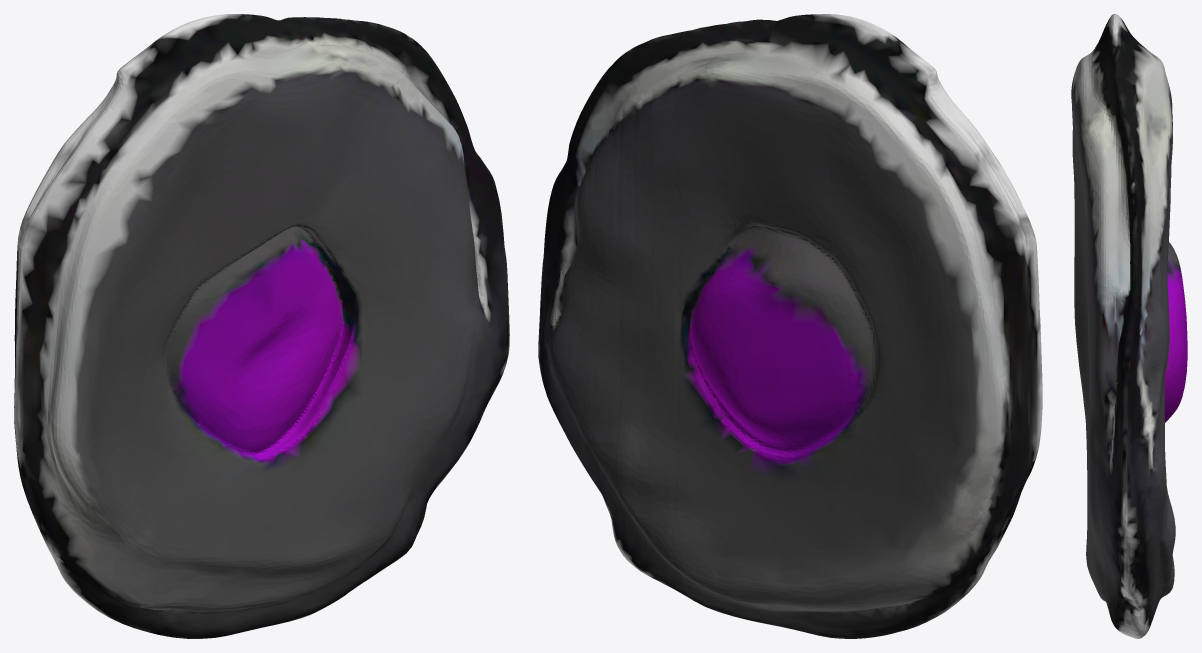
The model's file is shield_imana.glb.
The picture shows the model from 3 angles, left to right: view 1: azimuth 30°, elevation 25°; view 2: azimuth 150°, elevation 25°; view 3: azimuth 270°, elevation 25°; orthographic projection. The views are drawn at different scales.
Parts seen in each view (by area): view 1: geometry_0; view 2: geometry_0; view 3: geometry_0.
Boxes of the visible parts, x1=… form: geometry_0: x1=14, y1=14, x2=509, y2=638; geometry_0: x1=538, y1=14, x2=1042, y2=638; geometry_0: x1=1071, y1=14, x2=1187, y2=638.
Bounding box in the file's own units: 0.5938 × 0.7112 × 0.135.
